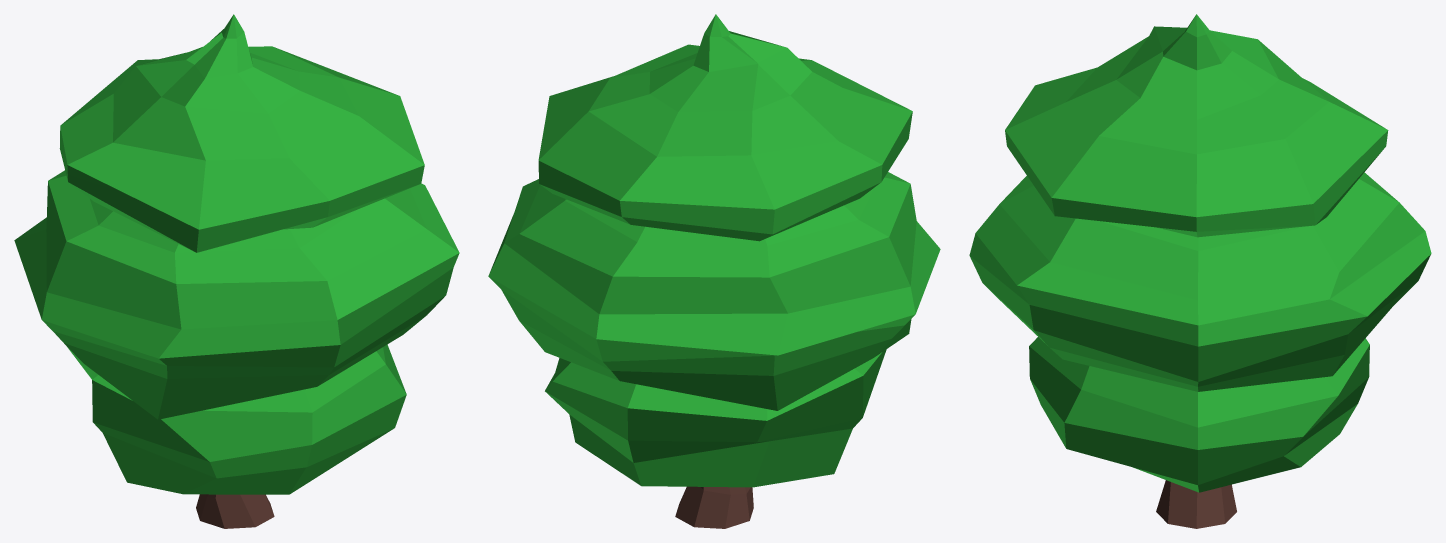
Rendered from tree_11.FBX.
3 renders of one model, left to right at view 1: azimuth 30°, elevation 25°; view 2: azimuth 150°, elevation 25°; view 3: azimuth 270°, elevation 25°, orthographic.
Parts seen in each view (by area): view 1: tree_11; view 2: tree_11; view 3: tree_11.
Part boxes in pixels (left/top/right/bottom): tree_11: left=14, top=14, right=459, bottom=528; tree_11: left=488, top=14, right=940, bottom=528; tree_11: left=969, top=14, right=1431, bottom=528.
Size of the model in its own units: 8.01 by 9.71 by 8.18.
Materials: 1 (1 with a texture image).
